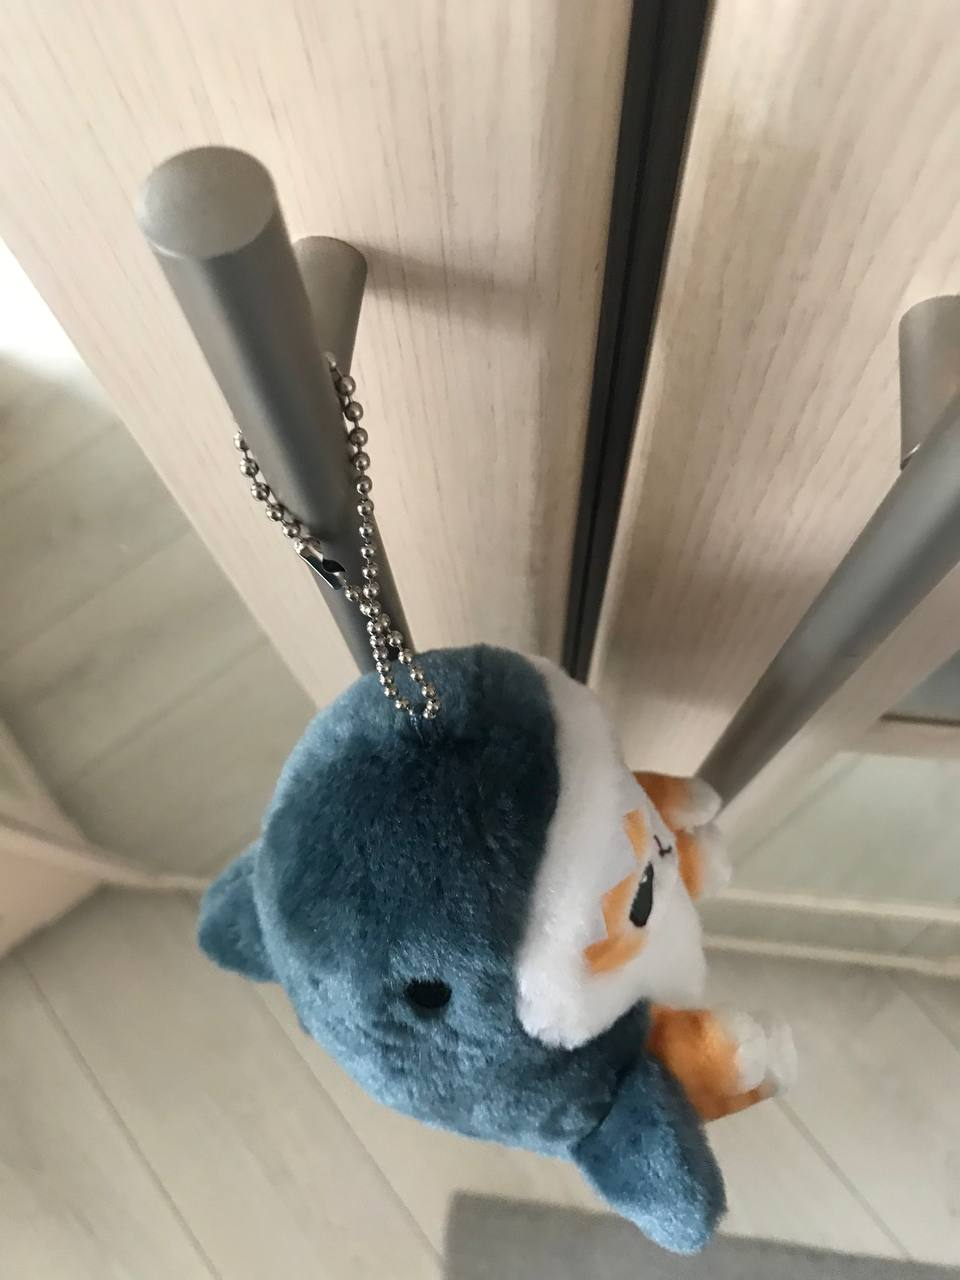cat_shark: (181, 638, 798, 1264)
